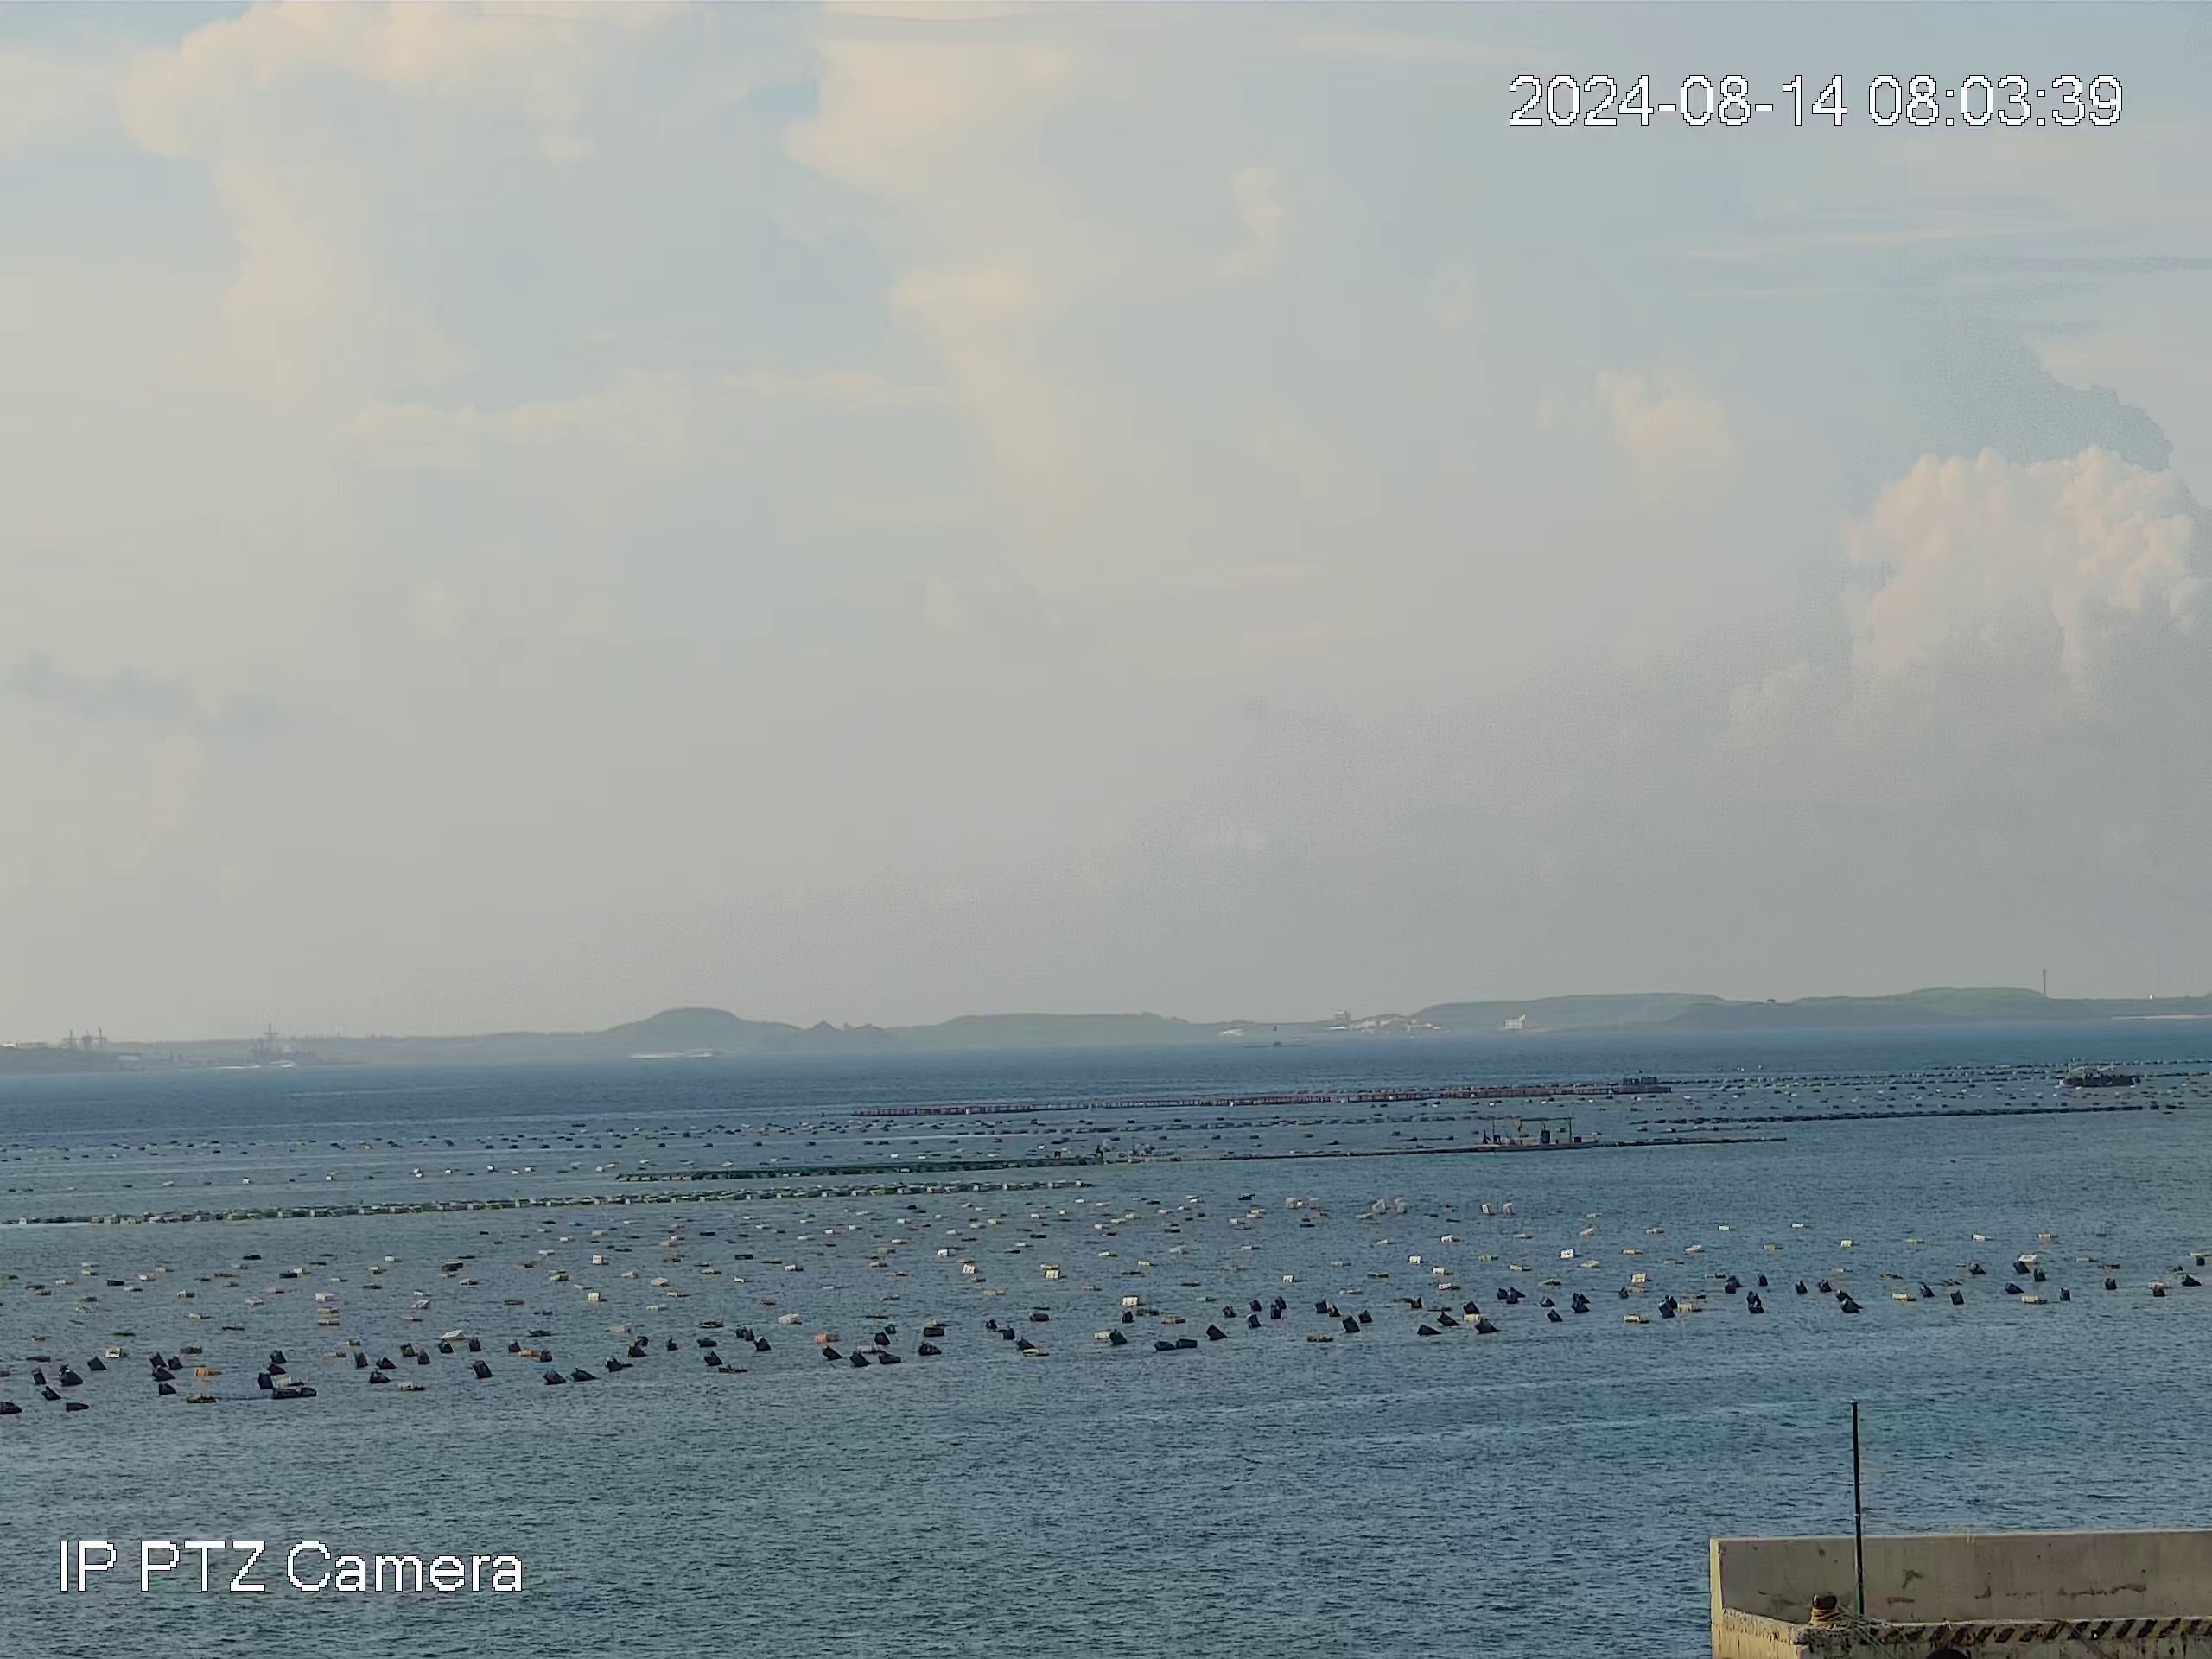boat: (1474, 1112, 1599, 1150), (2060, 1065, 2146, 1093)
